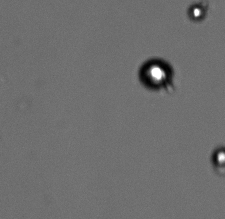Living Cell: (139, 57, 173, 91), (188, 4, 206, 20)
